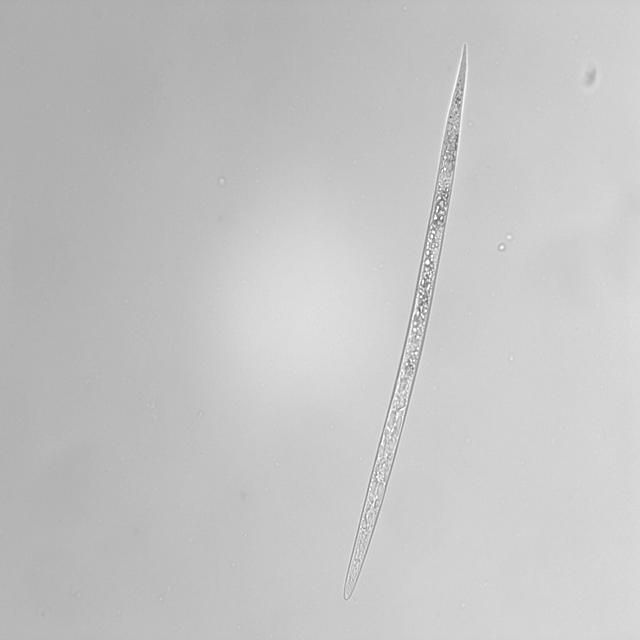Meloidogyne: (338, 35, 477, 602)
